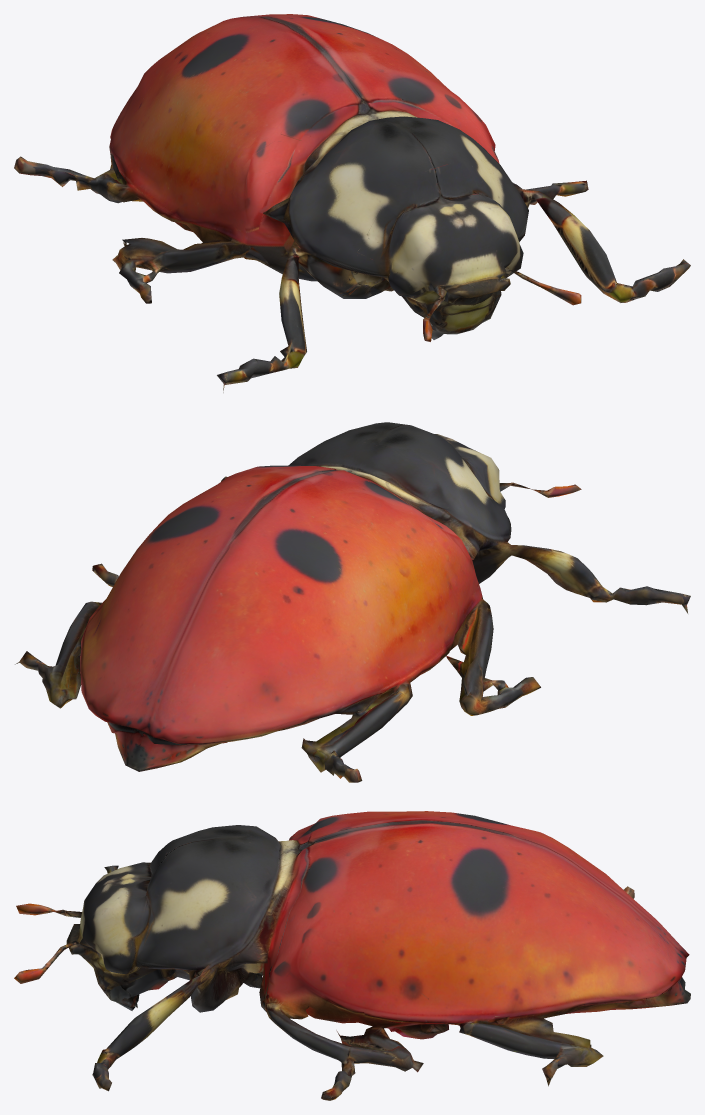
File: ladybug.glb
The picture shows the model from 3 angles, top to bottom: view 1: azimuth 30°, elevation 25°; view 2: azimuth 150°, elevation 25°; view 3: azimuth 270°, elevation 25°; orthographic projection. The views are drawn at different scales.
Bounding box in the file's own units: 1.58 × 0.6081 × 1.99.
Materials: 1 (1 with a texture image).
